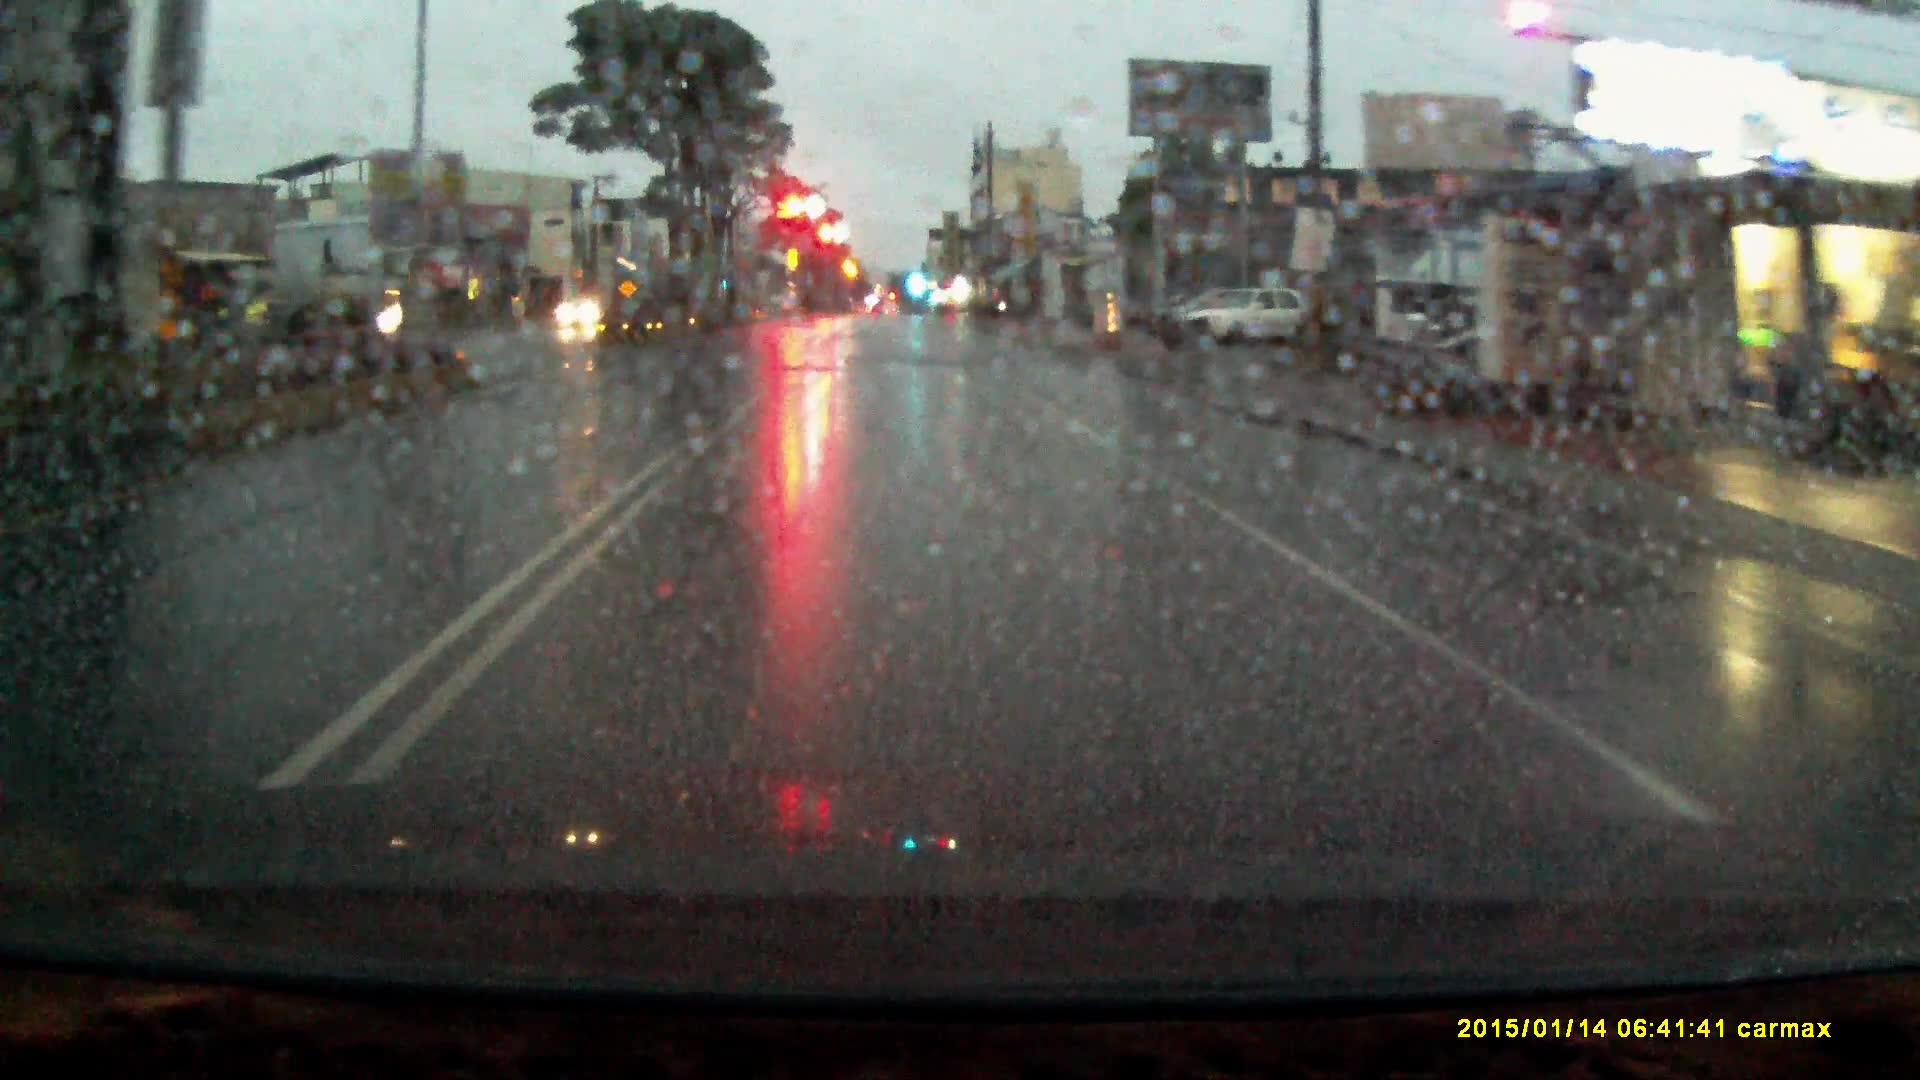vehicle: (1185, 284, 1327, 349), (559, 295, 611, 331)
